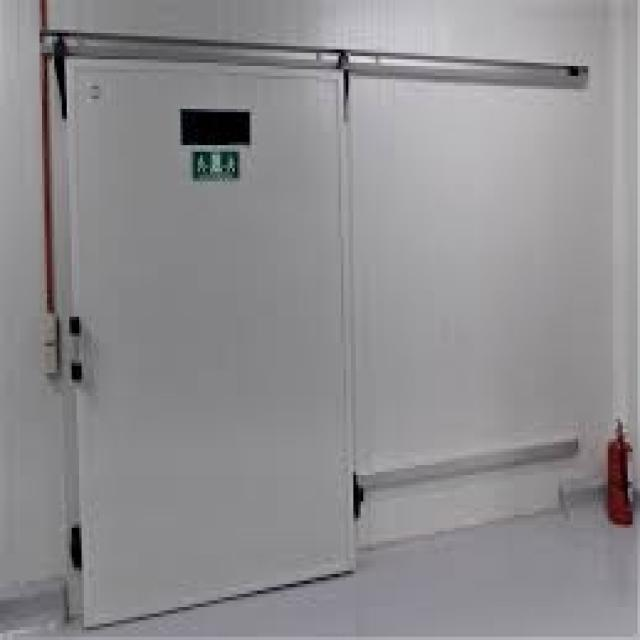door: (64, 54, 358, 628)
